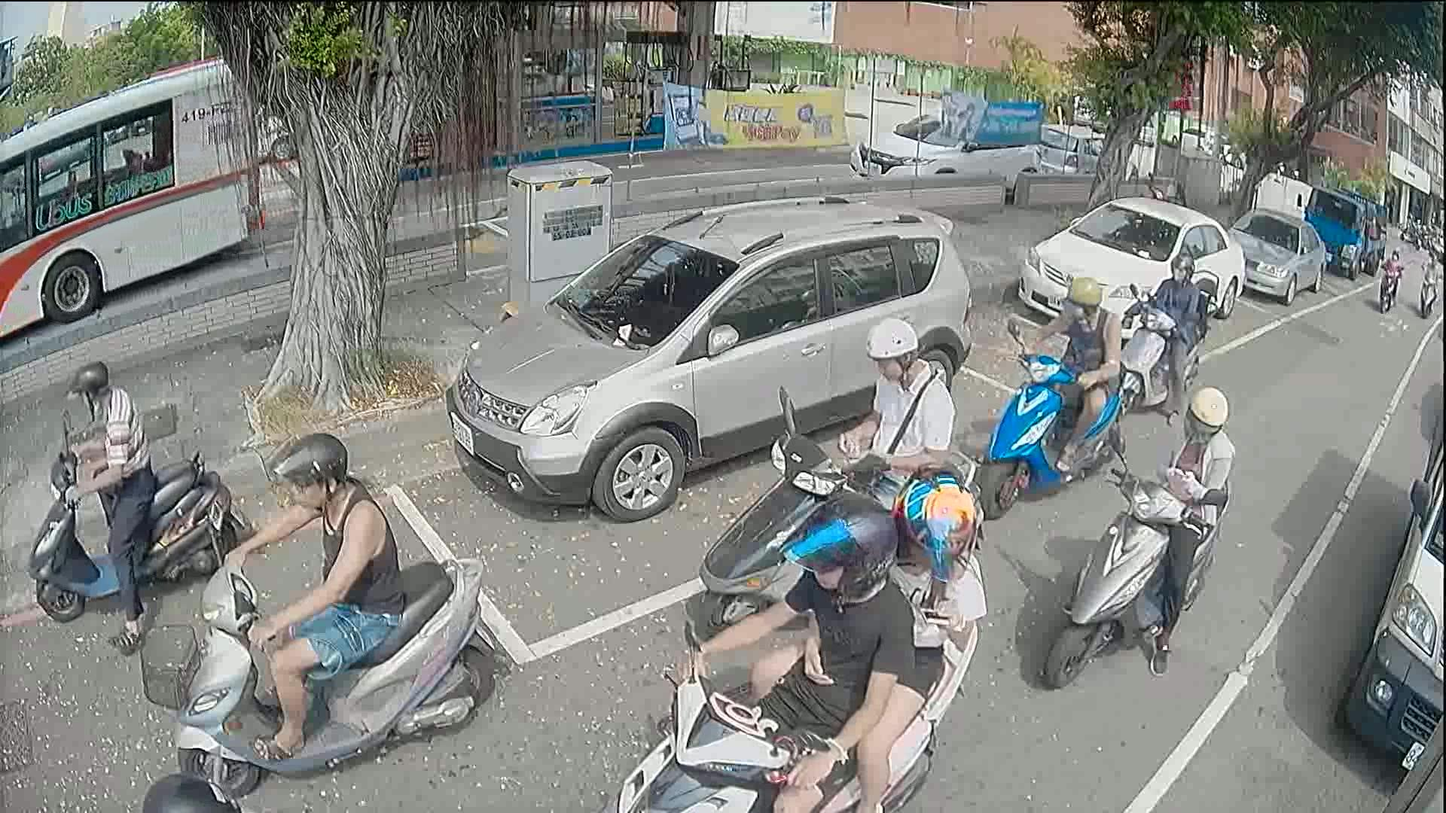person: (642, 478, 913, 812), (753, 473, 983, 808), (214, 423, 403, 769), (40, 364, 167, 636), (1130, 376, 1228, 676), (834, 315, 948, 509), (1022, 263, 1118, 474), (1145, 253, 1216, 418), (141, 758, 242, 811), (1380, 247, 1403, 275), (1423, 251, 1441, 283)
